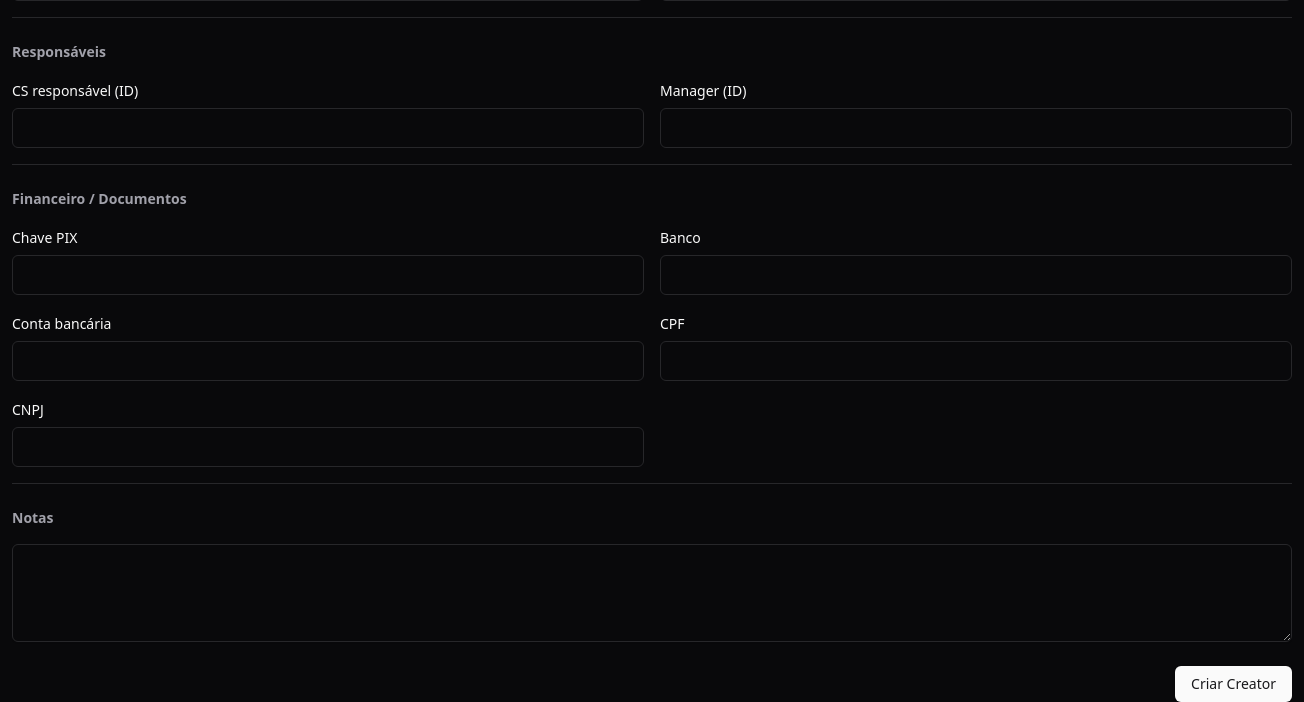
CreatorForm › shows a validation error and does not submit when the name is missing
(page scrolled)
Click the button "Criar Creator": (1234, 684) [1175,666,1292,701]
(page scrolled)
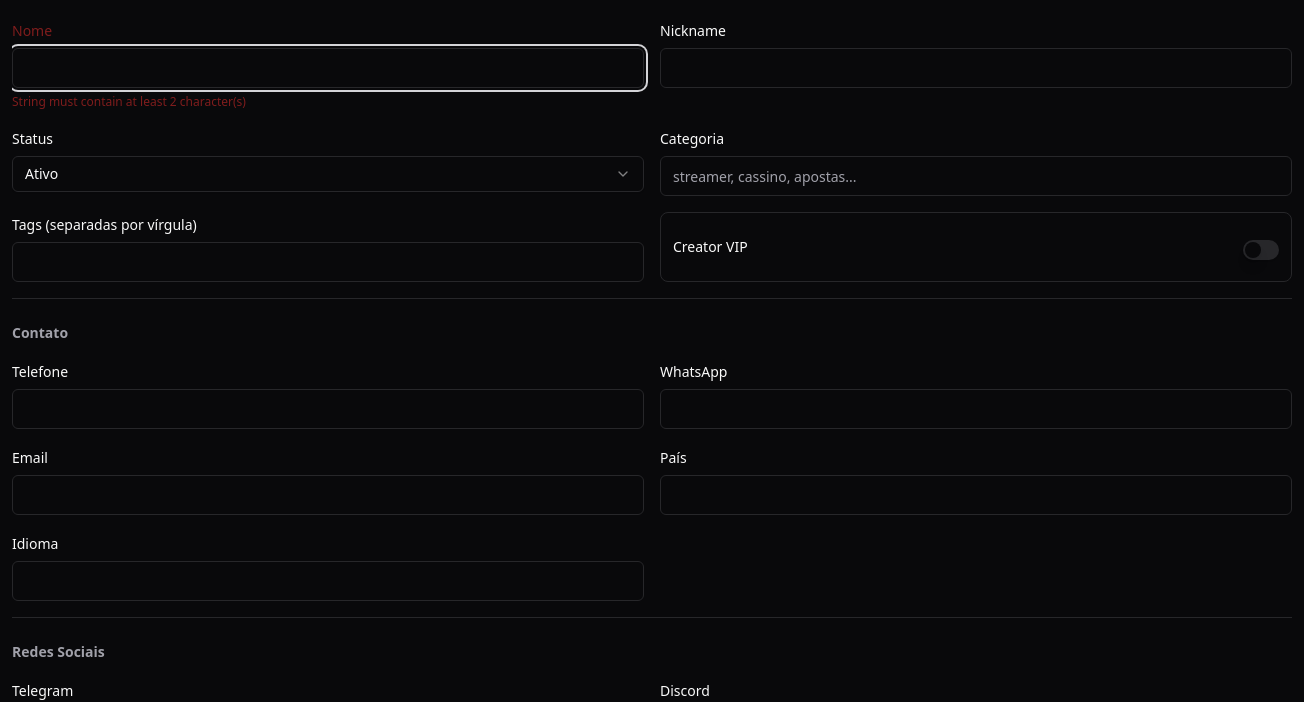
Result: the text "String must contain at least 2 character(s)" is shown at [12,93,246,110]
